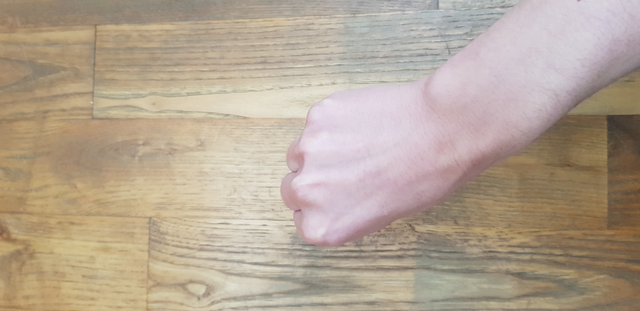Rock: (255, 81, 485, 263)
